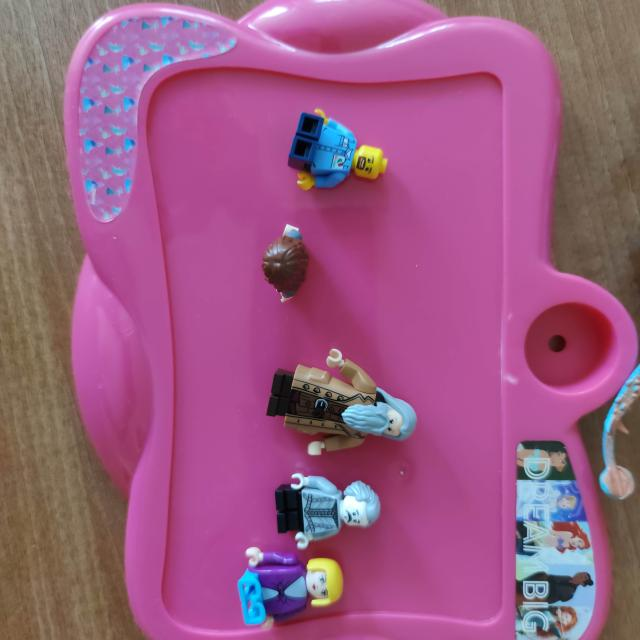lego: (345, 224, 457, 378), (546, 295, 630, 408), (109, 251, 192, 355), (473, 261, 549, 366), (224, 327, 302, 379)
